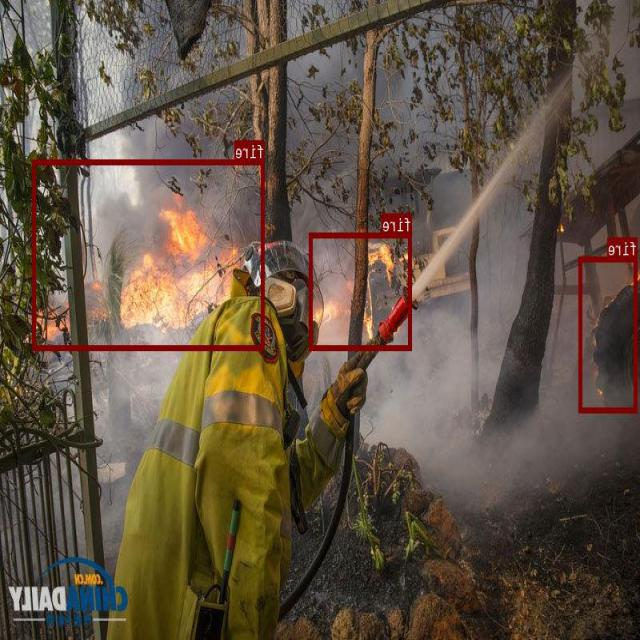fire: (34, 160, 266, 350), (310, 232, 412, 349), (580, 256, 638, 412)
